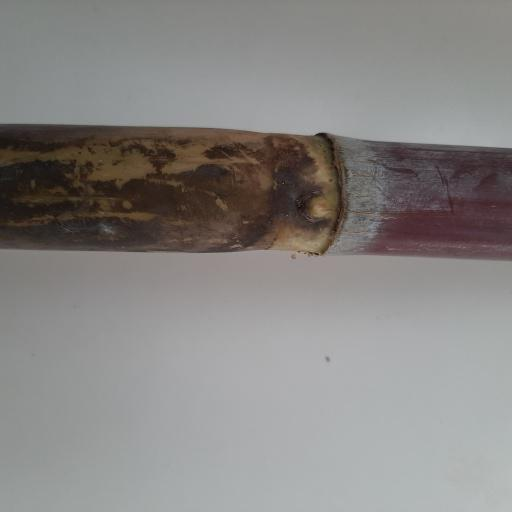Bud: (299, 195, 335, 222)
